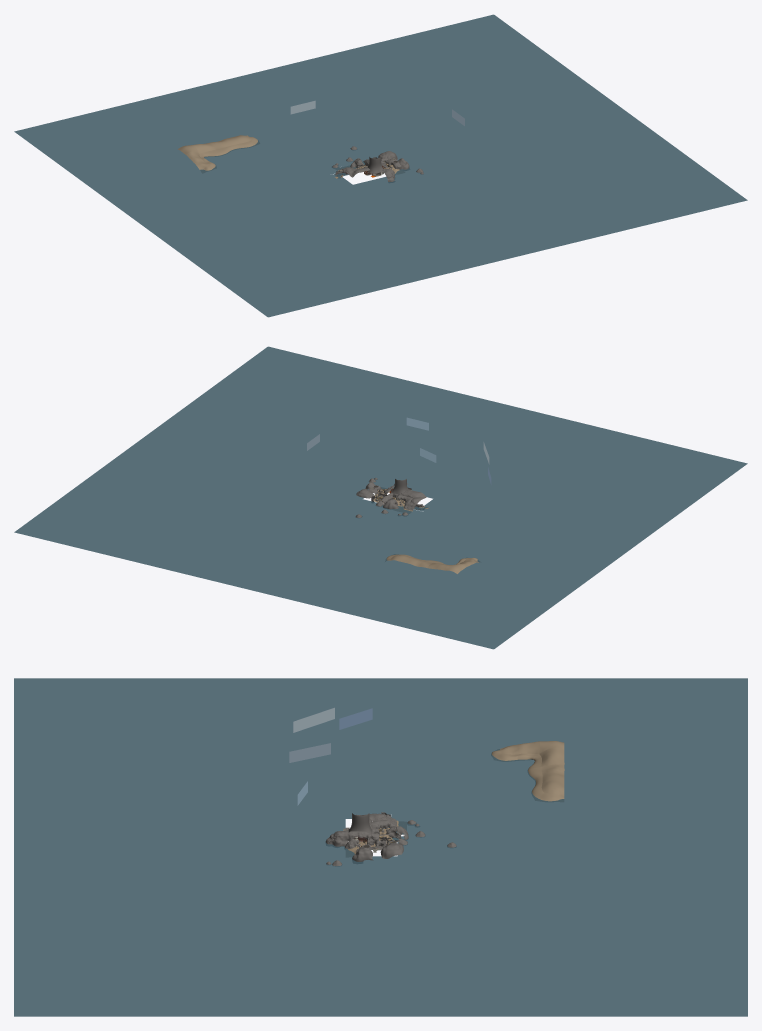
Rendered from world.glb.
The picture shows the model from 3 angles, top to bottom: view 1: azimuth 30°, elevation 25°; view 2: azimuth 150°, elevation 25°; view 3: azimuth 270°, elevation 25°; orthographic projection. The views are drawn at different scales.
Parts seen in each view (by area): view 1: skybox_3d_mesh; view 2: skybox_3d_mesh; view 3: skybox_3d_mesh.
Part boxes in pixels (bbox=[...]): skybox_3d_mesh: bbox=[14, 14, 747, 317]; skybox_3d_mesh: bbox=[14, 346, 747, 649]; skybox_3d_mesh: bbox=[14, 678, 747, 1016].
Size of the model in its own units: 98304 by 10620 by 90112.
